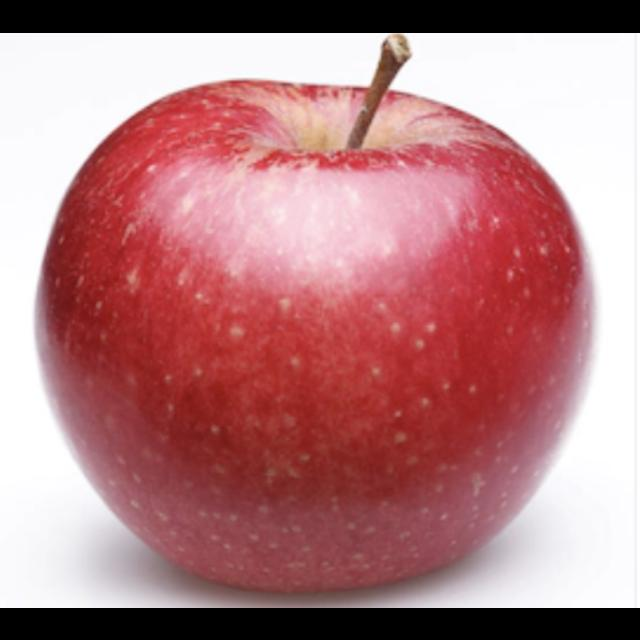Apel Segar: (39, 80, 593, 586)
